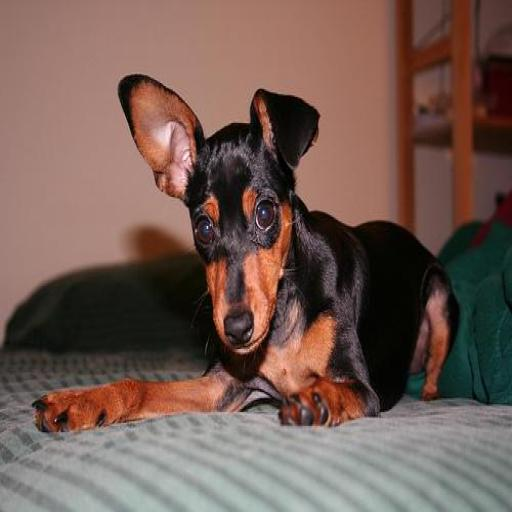dog_face: (124, 68, 311, 363)
